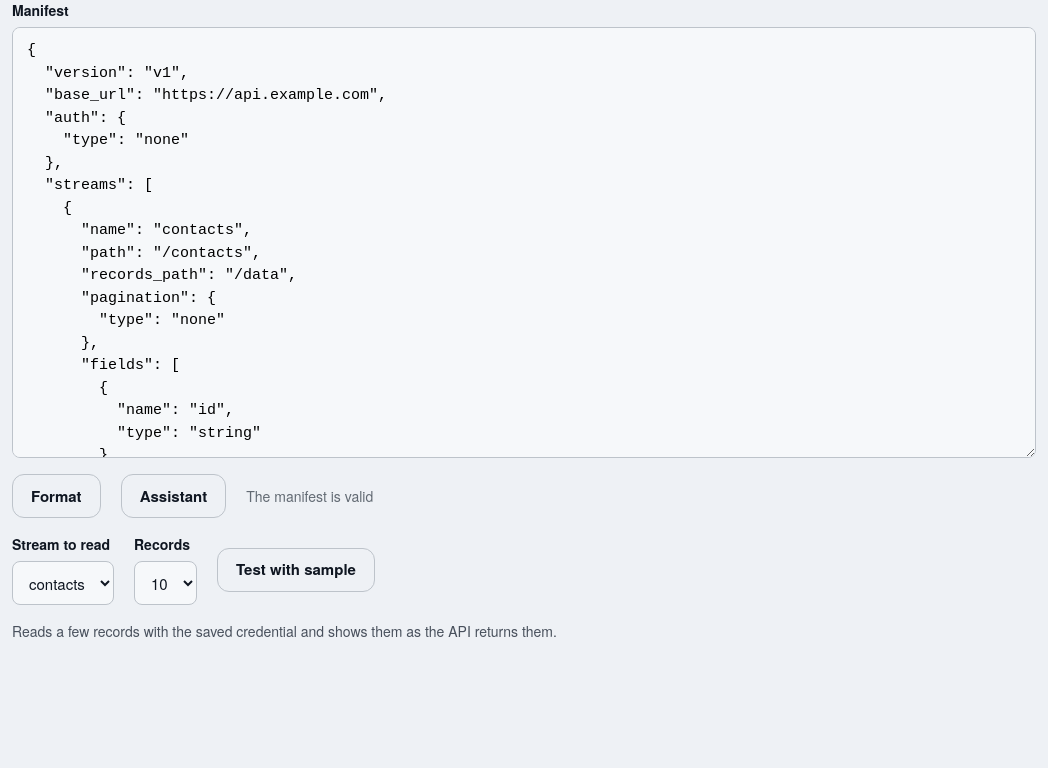
Test case: the sample › is idle until asked, then shows the raw records of the declared fields
The width and height of the screenshot is (1048, 768).
Expected: the text "Reads a few records with the saved credential" is shown, [12, 621, 557, 641]
Expected: the button "Test with sample" is enabled, [217, 548, 375, 592]
Select "5" in the dropdown labelled "Records" at (166, 583), box [134, 561, 197, 605]
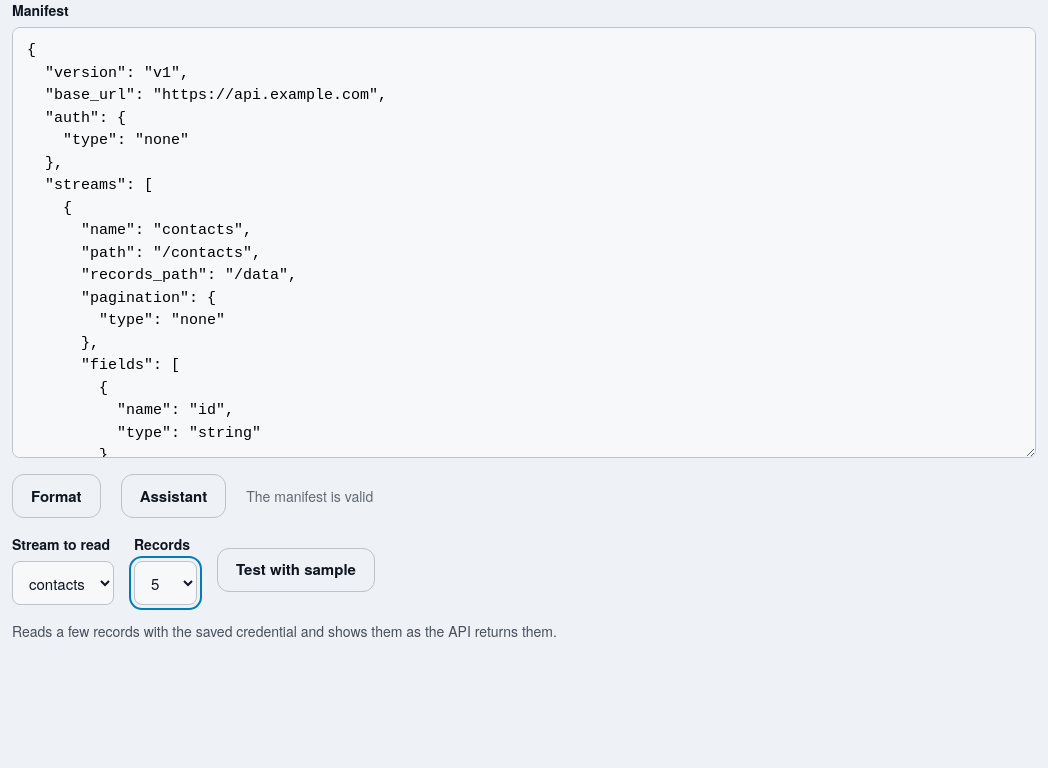
Click the button "Test with sample" at (296, 570), box [217, 548, 375, 592]
(page scrolled)
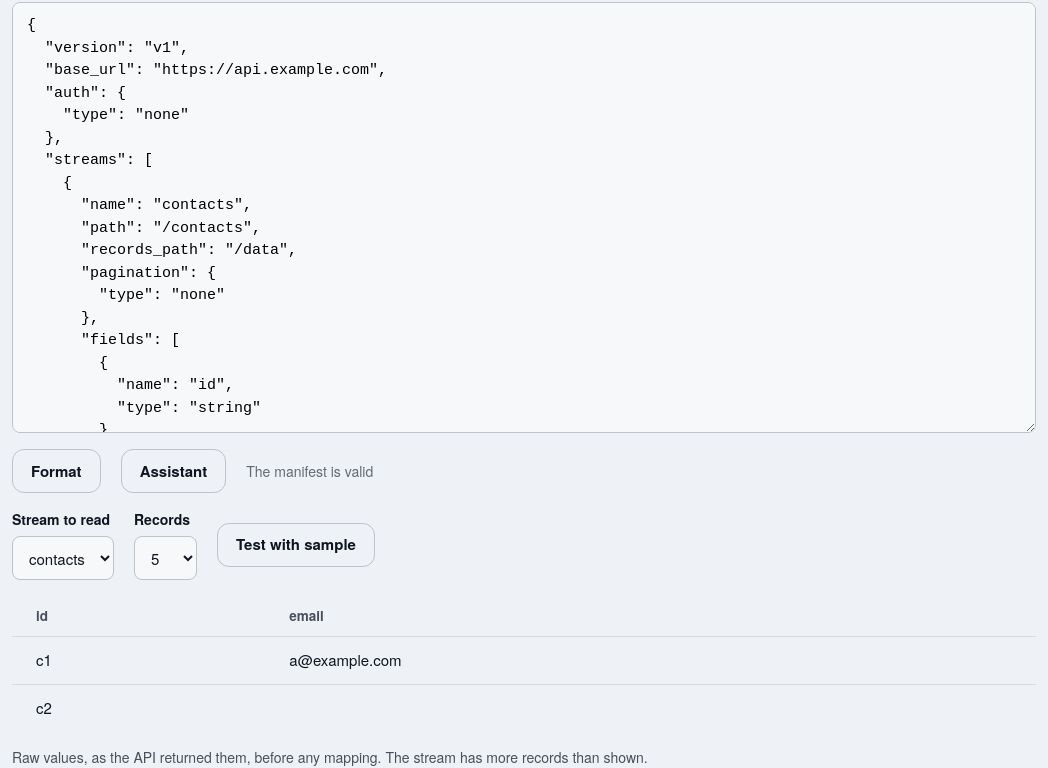
Expected: the column headings read "id", "email", in this order, [12, 596, 277, 637]; [277, 596, 1036, 637]
Expected: the text "a@example.com" is shown, [277, 637, 1036, 684]
Expected: the text "Raw values, as the API returned them" is shown, [12, 747, 382, 767]
